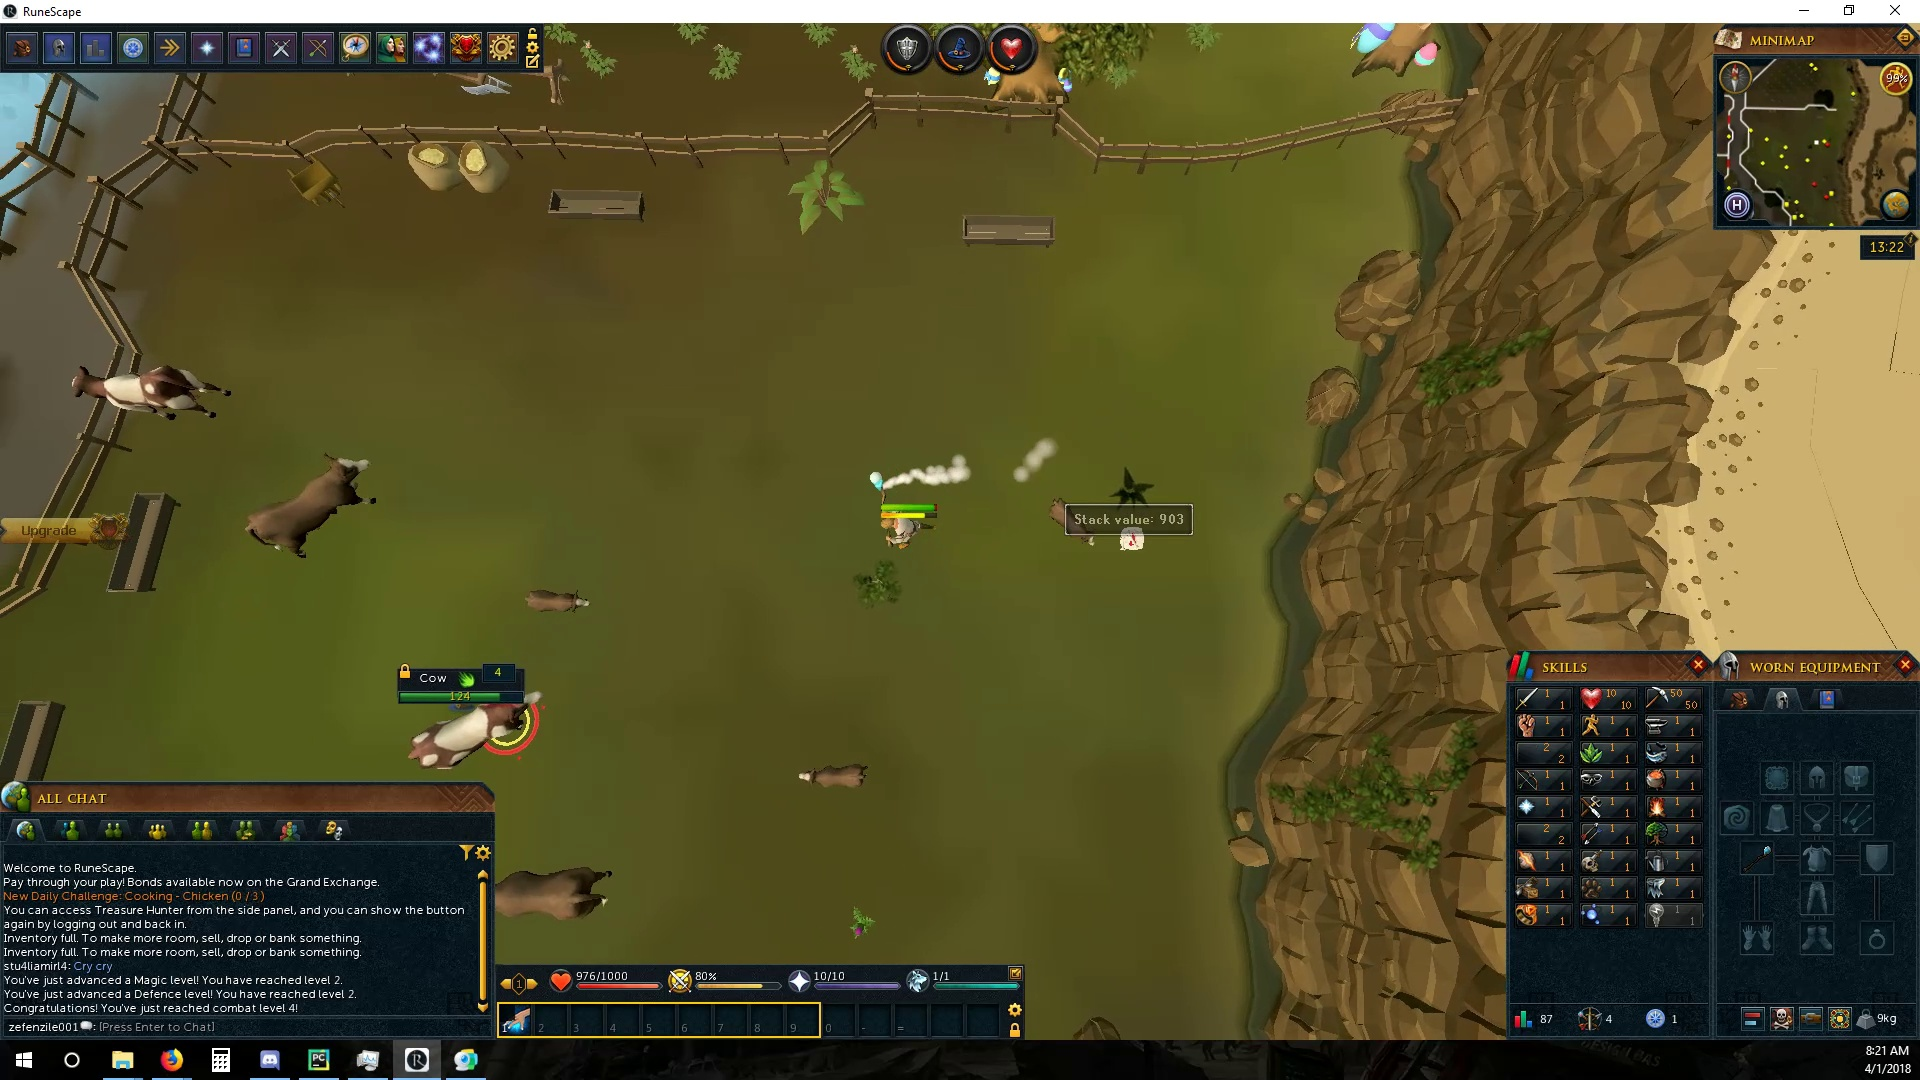calf: (1047, 496, 1098, 549), (791, 761, 870, 793), (520, 589, 593, 615)
cow: (240, 454, 381, 563), (402, 690, 545, 775), (66, 367, 233, 421), (495, 865, 618, 927)
cow_drop: (1116, 520, 1149, 558)
